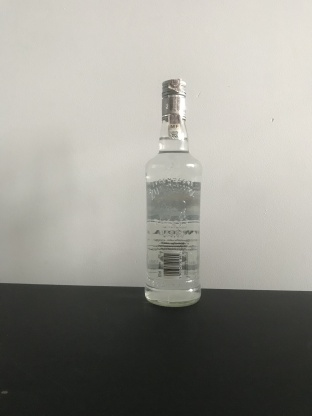nakretka: (160, 76, 188, 121)
